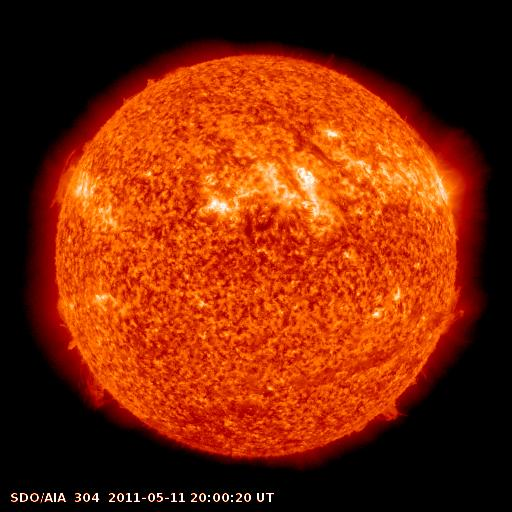prominence: (44, 133, 98, 211), (341, 390, 415, 438), (76, 354, 122, 415), (431, 281, 471, 345)
